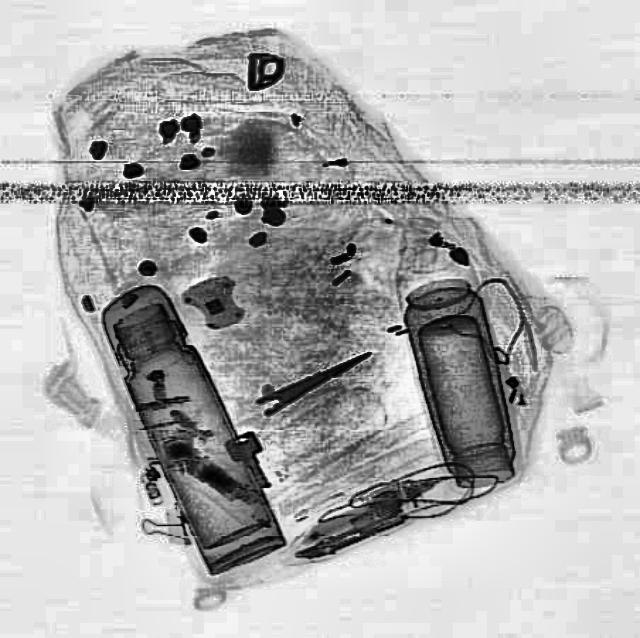Knife: (253, 341, 374, 418)
